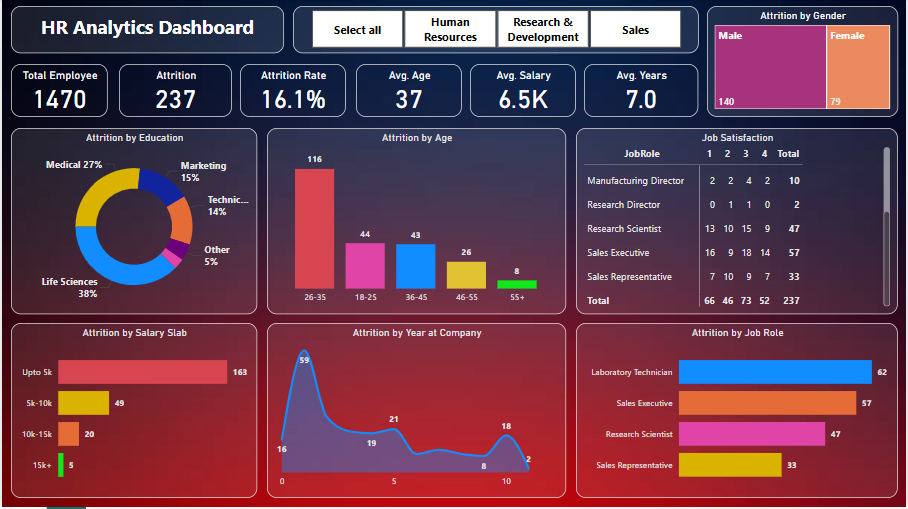

This screenshot's page, from the dashboard's own definition file:
{"tool":"powerbi","page":{"name":"Page 1","canvas":[1280,720],"ordinal":0},"visuals":[{"type":"card","title":"Attrition","fields":{"Values":["Sum(HR_Analytics.Attrition_Count)"]},"box":[165.8,92.1,160.2,75.1],"z":0},{"type":"card","title":"Attrition Rate","fields":{"Values":["HR_Analytics.Attrition_Rate"]},"box":[337.3,92.1,150.2,75.1],"z":1000},{"type":"card","title":"Total Employee","fields":{"Values":["CountNonNull(HR_Analytics.EmpID)"]},"box":[12.8,92.1,137.5,75.1],"z":2000},{"type":"card","title":"Avg. Salary","fields":{"Values":["Avg(HR_Analytics.MonthlyIncome)"]},"box":[663.3,92.1,150.2,75.1],"z":3000},{"type":"card","title":"Avg. Age","fields":{"Values":["Avg(HR_Analytics.Age)"]},"box":[501.7,92.1,150.2,75.1],"z":4000},{"type":"card","title":"Avg. Years","fields":{"Values":["Avg(HR_Analytics.YearsAtCompany)"]},"box":[824.9,92.1,161.6,75.1],"z":5000},{"type":"donutChart","title":"Attrition by Education","fields":{"Category":["HR_Analytics.EducationField"],"Y":["Sum(HR_Analytics.Attrition_Count)"]},"box":[12.8,182.8,348.7,263.6],"z":6000},{"type":"barChart","title":"Attrition by Salary Slab","fields":{"Category":["HR_Analytics.SalarySlab"],"Y":["Sum(HR_Analytics.Attrition_Count)"]},"box":[12.8,459.2,348.7,248],"z":7000},{"type":"pivotTable","title":"Job Satisfaction","fields":{"Rows":["HR_Analytics.JobRole"],"Columns":["HR_Analytics.JobSatisfaction"],"Values":["Sum(HR_Analytics.Attrition_Count)"]},"box":[813.5,182.8,456.4,263.6],"z":8000},{"type":"columnChart","title":"Attrition by Age","fields":{"Y":["Sum(HR_Analytics.Attrition_Count)"],"Category":["HR_Analytics.AgeGroup"]},"box":[375.6,182.8,423.8,263.6],"z":9000},{"type":"barChart","title":"Attrition by Job Role","fields":{"Y":["Sum(HR_Analytics.Attrition_Count)"],"Category":["HR_Analytics.JobRole"]},"box":[813.5,459.2,456.4,248],"z":10000},{"type":"areaChart","title":"Attrition by Year at Company","fields":{"Category":["HR_Analytics.YearsAtCompany"],"Y":["Sum(HR_Analytics.Attrition_Count)"]},"box":[375.6,459.2,423.8,248],"z":11000},{"type":"treemap","title":"Attrition by Gender","fields":{"Group":["HR_Analytics.Gender"],"Values":["Sum(HR_Analytics.Attrition_Count)"]},"box":[999.2,9.9,270.7,157.3],"z":12000},{"type":"slicer","fields":{"Values":["HR_Analytics.Department"]},"box":[412.4,9.9,575.4,66.6],"z":13000},{"type":"textbox","box":[12.8,9.9,386.9,66.6],"z":14000}]}

Visuals, with their boxes in screenshot pixels (x1, y1, x2, y2), scaled from the page's 1280x720 canvas onto the 908x509 screenshot:
"Attrition" card: (118,65,231,118)
"Attrition Rate" card: (239,65,346,118)
"Total Employee" card: (9,65,107,118)
"Avg. Salary" card: (471,65,577,118)
"Avg. Age" card: (356,65,462,118)
"Avg. Years" card: (585,65,700,118)
"Attrition by Education" donutChart: (9,129,256,316)
"Attrition by Salary Slab" barChart: (9,325,256,500)
"Job Satisfaction" pivotTable: (577,129,901,316)
"Attrition by Age" columnChart: (266,129,567,316)
"Attrition by Job Role" barChart: (577,325,901,500)
"Attrition by Year at Company" areaChart: (266,325,567,500)
"Attrition by Gender" treemap: (709,7,901,118)
slicer - HR_Analytics.Department: (293,7,701,54)
textbox: (9,7,284,54)
